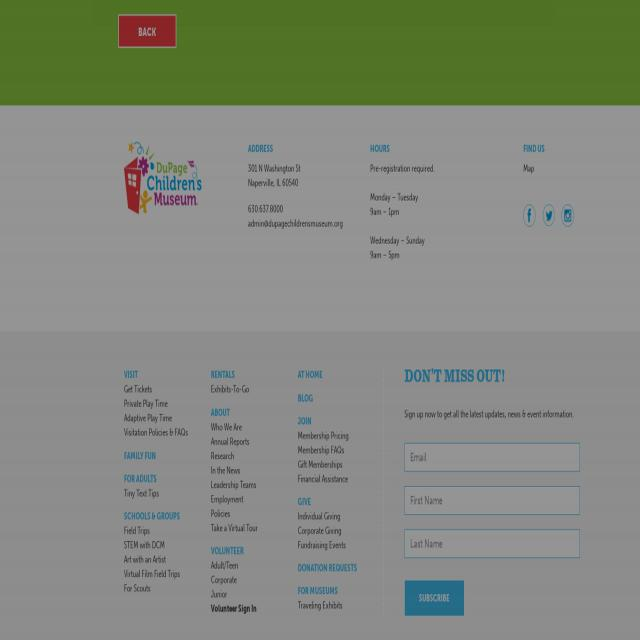button: (124, 142, 202, 214), (404, 580, 464, 616), (118, 14, 176, 48), (542, 204, 556, 226), (524, 204, 536, 226), (562, 204, 574, 226)
field: (406, 442, 580, 472), (405, 487, 580, 515), (405, 530, 580, 557)
